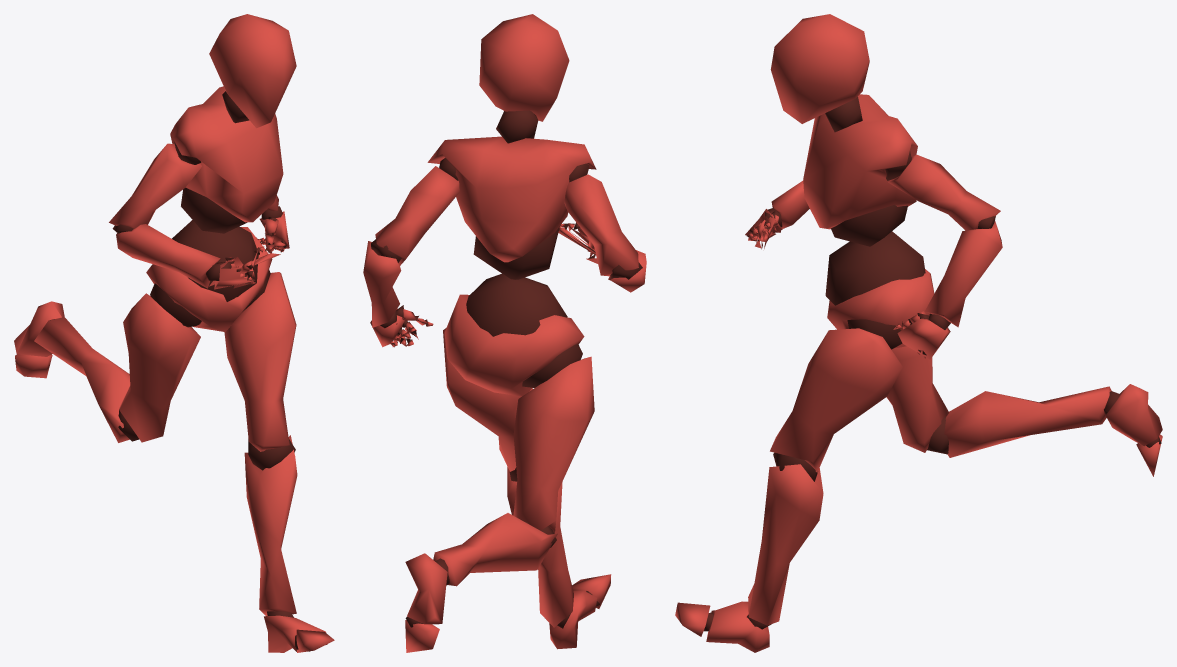
3 views of the same model, side by side, from view 1: azimuth 30°, elevation 25°; view 2: azimuth 150°, elevation 25°; view 3: azimuth 270°, elevation 25° (orthographic). The views are drawn at different scales.
Visible parts, largest first — view 1: Beta_Surface.001; view 2: Beta_Surface.001; view 3: Beta_Surface.001.
Part boxes in pixels (x1,y1,x2,y2): Beta_Surface.001: (14, 14, 334, 652); Beta_Surface.001: (363, 14, 646, 652); Beta_Surface.001: (675, 14, 1162, 652).
Bounding box in the file's own units: 5.38 × 14.88 × 10.35.
